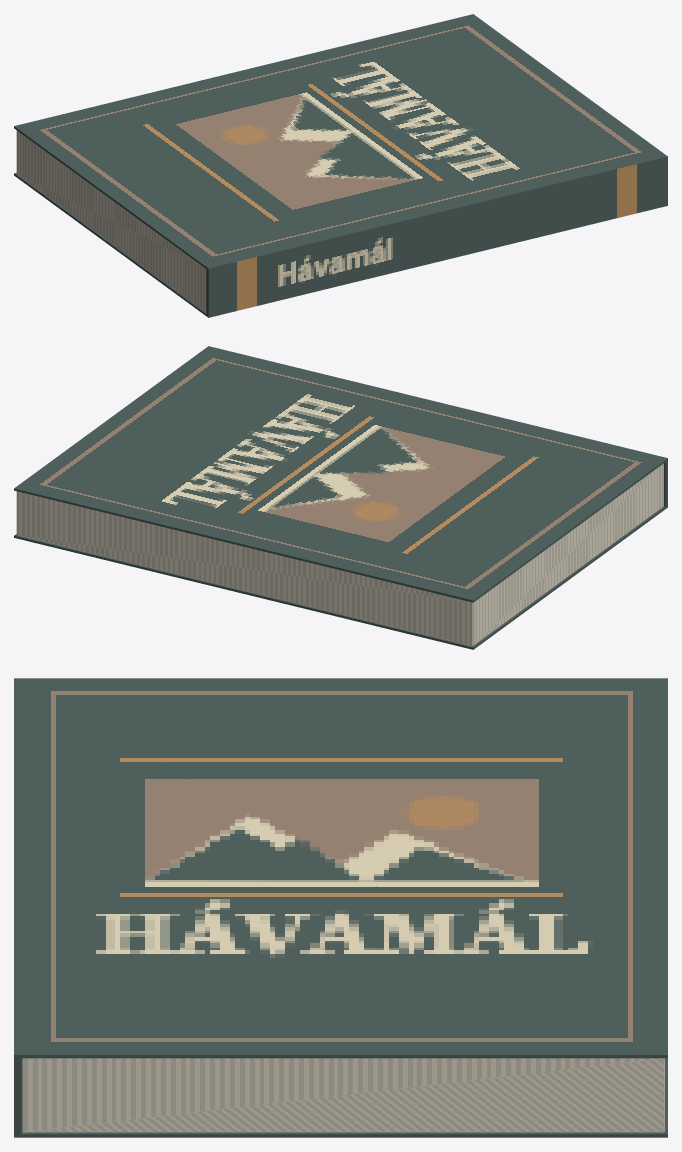
File: holybook_havamal.glb
The picture shows the model from 3 angles, top to bottom: view 1: azimuth 30°, elevation 25°; view 2: azimuth 150°, elevation 25°; view 3: azimuth 270°, elevation 25°; orthographic projection. The views are drawn at different scales.
Visible parts, largest first — view 1: block_front, block_spine, block_pages, block_back; view 2: block_front, block_pages, block_back, block_spine; view 3: block_front, block_pages, block_back, block_spine.
Part boxes in pixels (x1=…): block_front: x1=14, y1=14, x2=665, y2=269; block_spine: x1=206, y1=155, x2=667, y2=317; block_pages: x1=16, y1=130, x2=206, y2=311; block_back: x1=14, y1=173, x2=207, y2=316; block_front: x1=14, y1=346, x2=667, y2=602; block_pages: x1=16, y1=463, x2=663, y2=646; block_back: x1=14, y1=506, x2=667, y2=649; block_spine: x1=207, y1=346, x2=667, y2=507; block_front: x1=16, y1=678, x2=667, y2=1058; block_pages: x1=21, y1=1058, x2=664, y2=1132; block_back: x1=16, y1=1058, x2=667, y2=1137; block_spine: x1=14, y1=678, x2=21, y2=1137.
Bounding box in the file's own units: 0.229 × 0.0235 × 0.168.
1 material, 1 textured.
